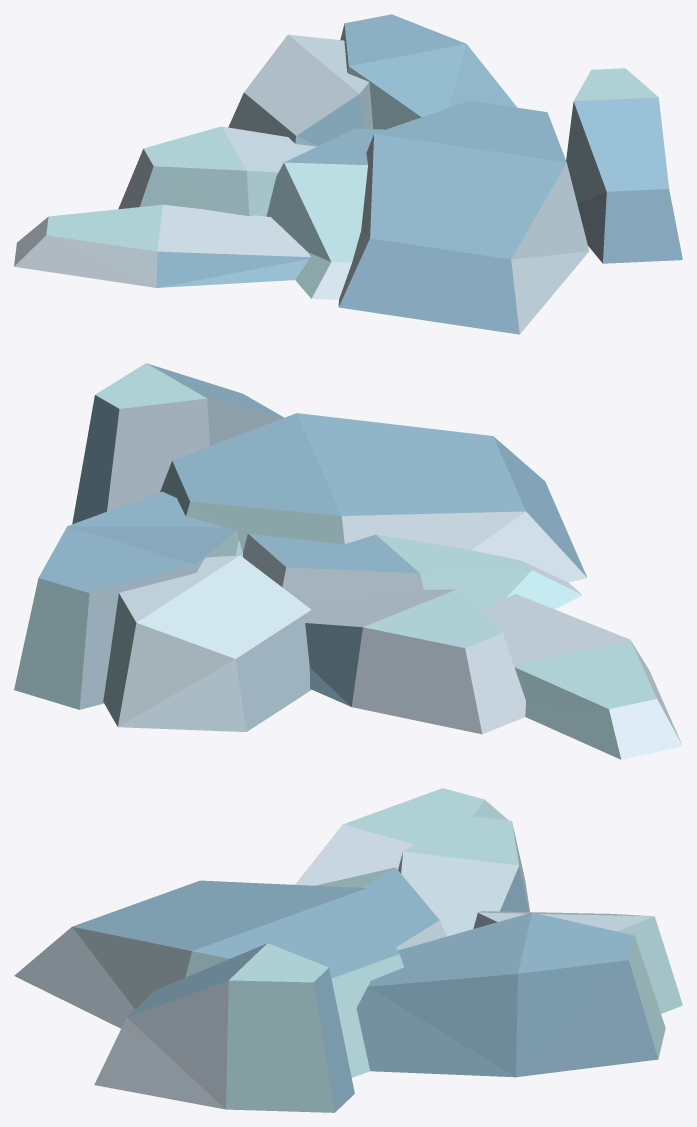
The model's file is Ice Rocks 2.fbx.
3 views of the same model, one above another, from view 1: azimuth 30°, elevation 25°; view 2: azimuth 150°, elevation 25°; view 3: azimuth 270°, elevation 25° (orthographic). The views are drawn at different scales.
Visible parts, largest first — view 1: Ice block 6; view 2: Ice block 6; view 3: Ice block 6.
Part boxes in pixels (left/top/right/bottom): Ice block 6: left=14, top=14, right=682, bottom=334; Ice block 6: left=14, top=363, right=682, bottom=759; Ice block 6: left=14, top=788, right=682, bottom=1112.
Size of the model in its own units: 1004 by 193 by 924.
